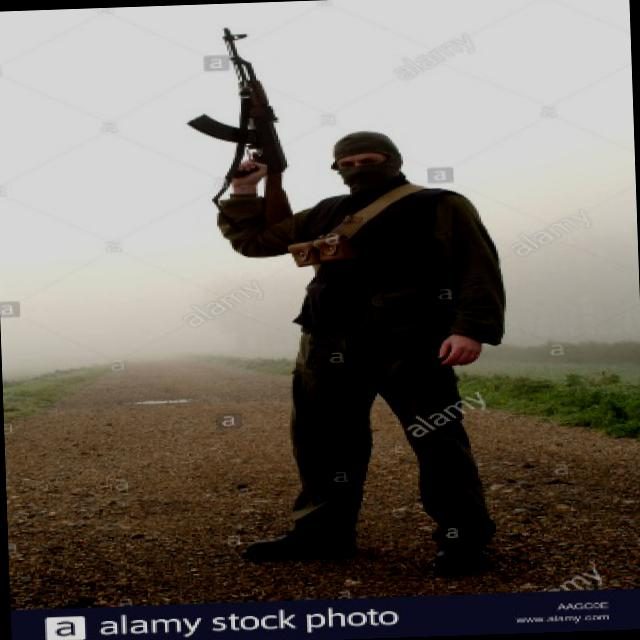long weapon: (185, 18, 302, 228)
